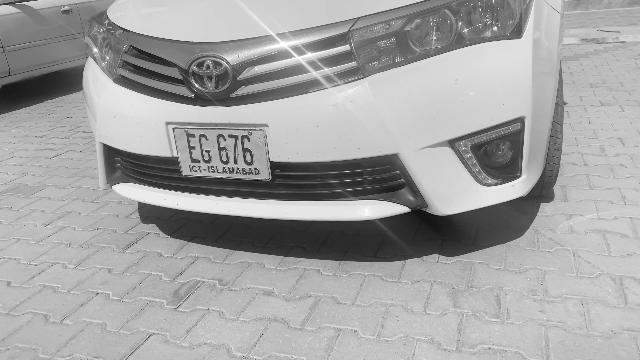Number: (182, 132, 257, 165)
